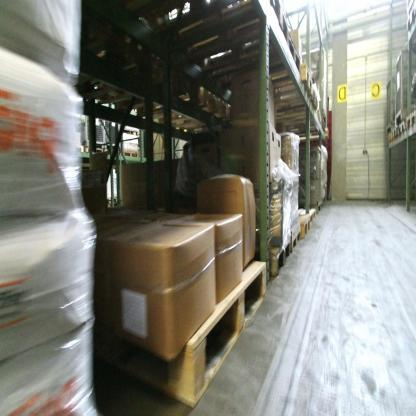pallets: (112, 258, 268, 408), (264, 202, 323, 282), (384, 102, 415, 147)
